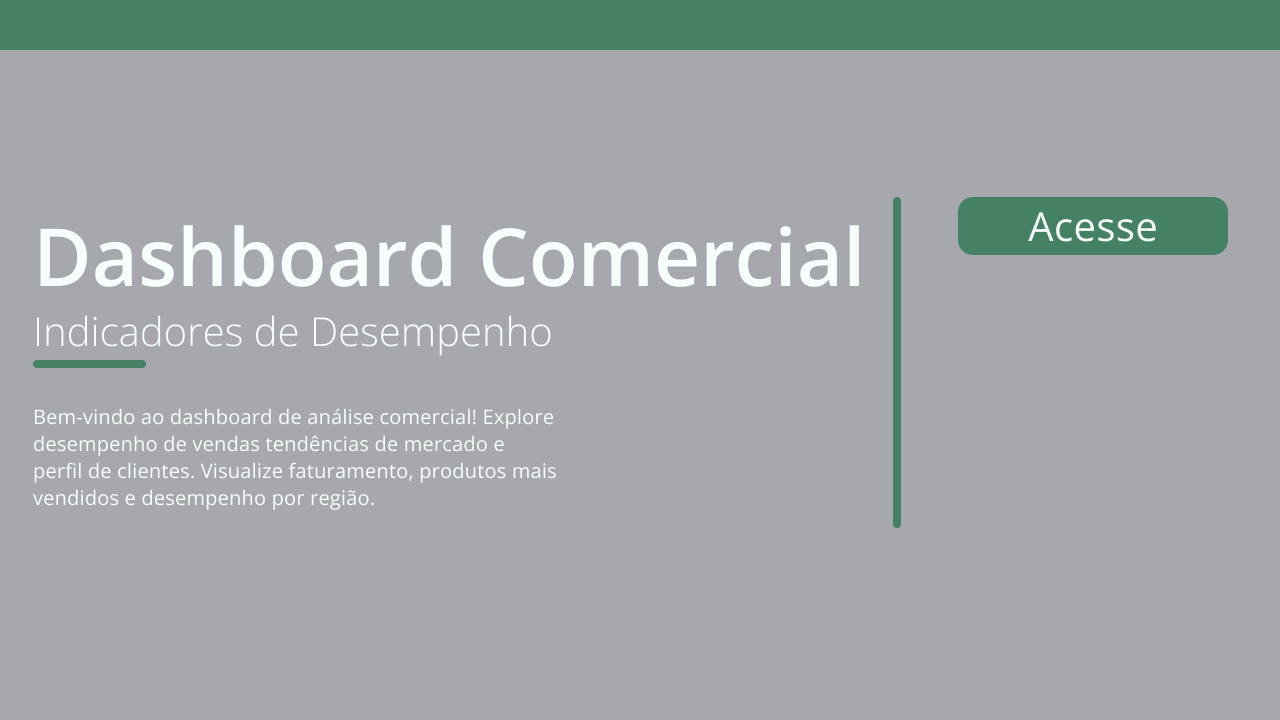

Layout of this report page (visuals, bound fields, positions):
{"tool":"powerbi","page":{"name":"Capa","canvas":[1280,720],"ordinal":0},"visuals":[{"type":"image","box":[12.3,52,176.4,64.3],"z":0},{"type":"image","box":[81.6,125.8,40.6,26],"z":0,"group":"g1"},{"type":"image","box":[122.1,125.8,40.6,26],"z":1000,"group":"g1"},{"type":"group","id":"g1","title":"Grupo 2","box":[41,125.8,120.3,26],"z":2000},{"type":"image","box":[41,125.8,40.6,26],"z":2000,"group":"g1"},{"type":"image","box":[1182.7,0,83.6,48.2],"z":3000},{"type":"image","box":[1115.5,0,67.3,48.2],"z":4000},{"type":"pageNavigator","box":[966,263.6,259,263.6],"z":5000}]}

Visuals, with their boxes in screenshot pixels (x1, y1, x2, y2), scaled from the page's 1280x720 canvas onto the 1280x720 screenshot:
image: box=[12, 52, 189, 116]
image: box=[82, 126, 122, 152]
image: box=[122, 126, 163, 152]
"Grupo 2" group: box=[41, 126, 161, 152]
image: box=[41, 126, 82, 152]
image: box=[1183, 0, 1266, 48]
image: box=[1116, 0, 1183, 48]
pageNavigator: box=[966, 264, 1225, 527]
